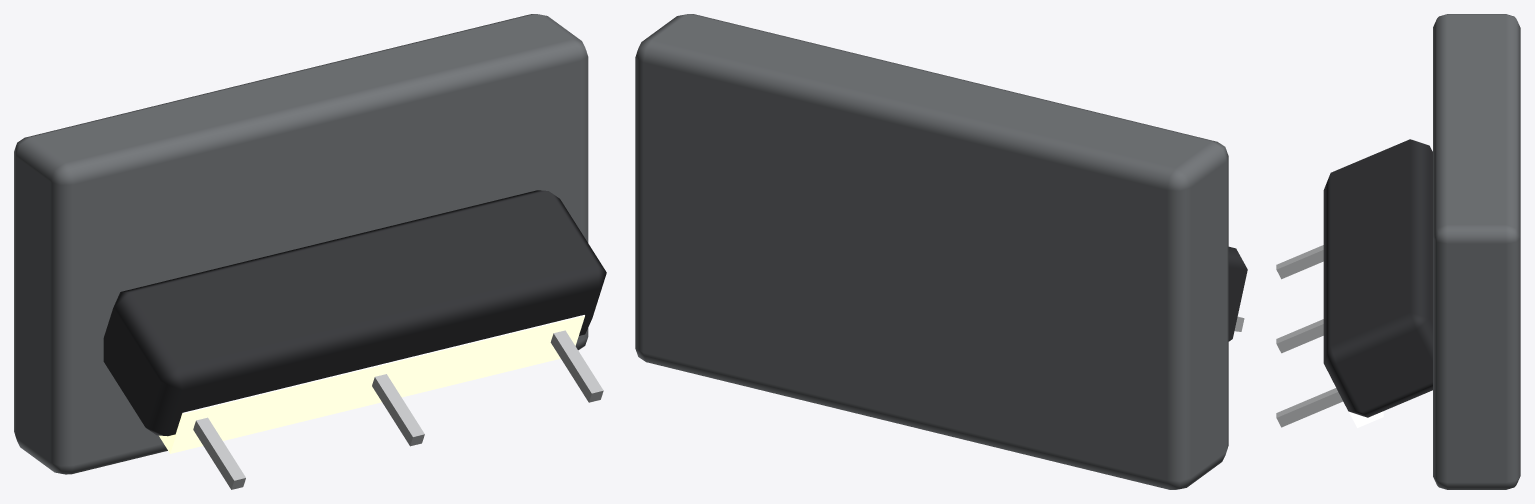
File: wall_lamp.glb
3 views of the same model, side by side, from view 1: azimuth 30°, elevation 25°; view 2: azimuth 150°, elevation 25°; view 3: azimuth 270°, elevation 25° (orthographic). The views are drawn at different scales.
Parts seen in each view (by area): view 1: wall_lamp; view 2: wall_lamp; view 3: wall_lamp.
Part boxes in pixels (x1=…): wall_lamp: x1=14, y1=14, x2=606, y2=489; wall_lamp: x1=635, y1=14, x2=1247, y2=489; wall_lamp: x1=1276, y1=14, x2=1520, y2=489.
Size of the model in its own units: 0.36 by 0.2 by 0.167.
